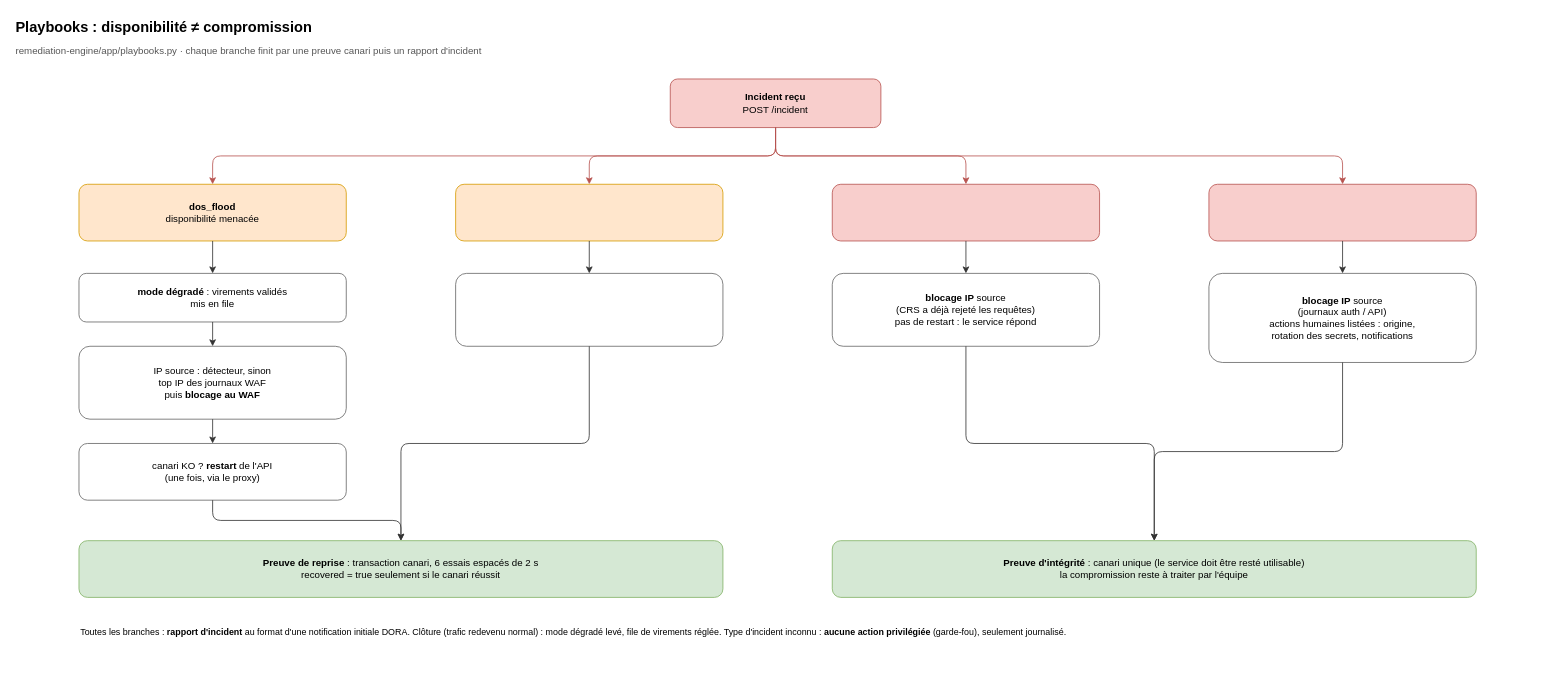
Some shapes in this 1550 by 684 pixel diagram are drawn without their labels. The centre of each missing label's shape, as x and y in pixels:
"honeytoken_triggered compte leurre utilisé : fuite" goes at (1342,212).
"injection_attempt compromission tentée" goes at (965,212).
"restart du conteneur (payment-api, auth, frontend) via docker-socket-proxy" goes at (589,309).
"service_unavailable service tombé (up == 0)" goes at (589,212).
